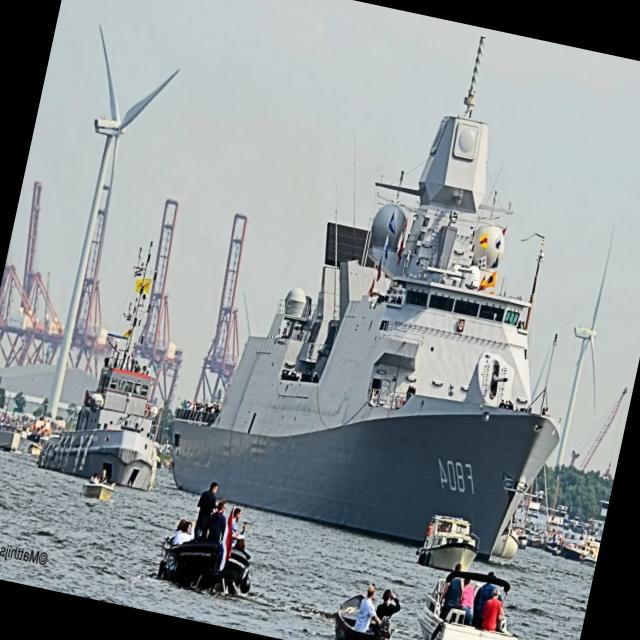Military: (173, 43, 559, 559), (37, 242, 158, 490)
